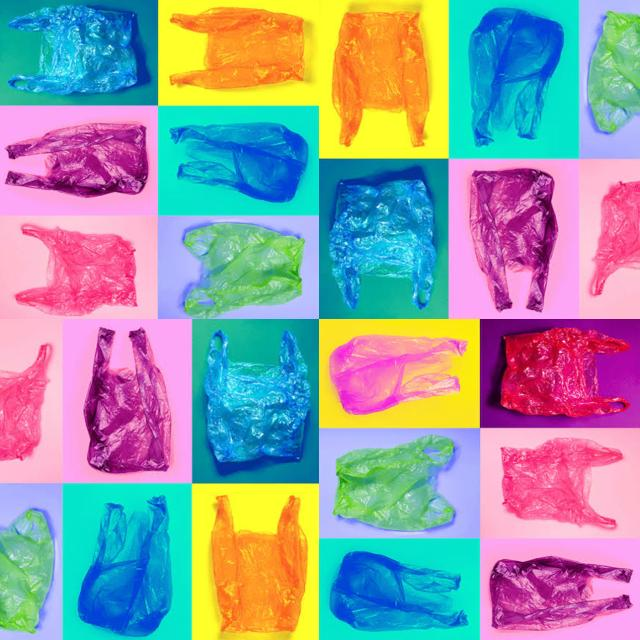plastik: (329, 179, 436, 309), (205, 330, 310, 462), (77, 495, 172, 635), (332, 12, 430, 147), (212, 495, 308, 632), (469, 8, 563, 146), (84, 328, 172, 473), (470, 168, 558, 311), (184, 222, 305, 318), (333, 435, 454, 531), (8, 5, 137, 94), (501, 328, 630, 417), (329, 334, 467, 415), (500, 437, 622, 528), (16, 225, 137, 316), (169, 123, 308, 202), (171, 7, 304, 89), (330, 552, 467, 631), (490, 555, 632, 630), (6, 123, 148, 197), (0, 510, 54, 632), (588, 11, 640, 133), (0, 344, 51, 461), (589, 181, 640, 295)
